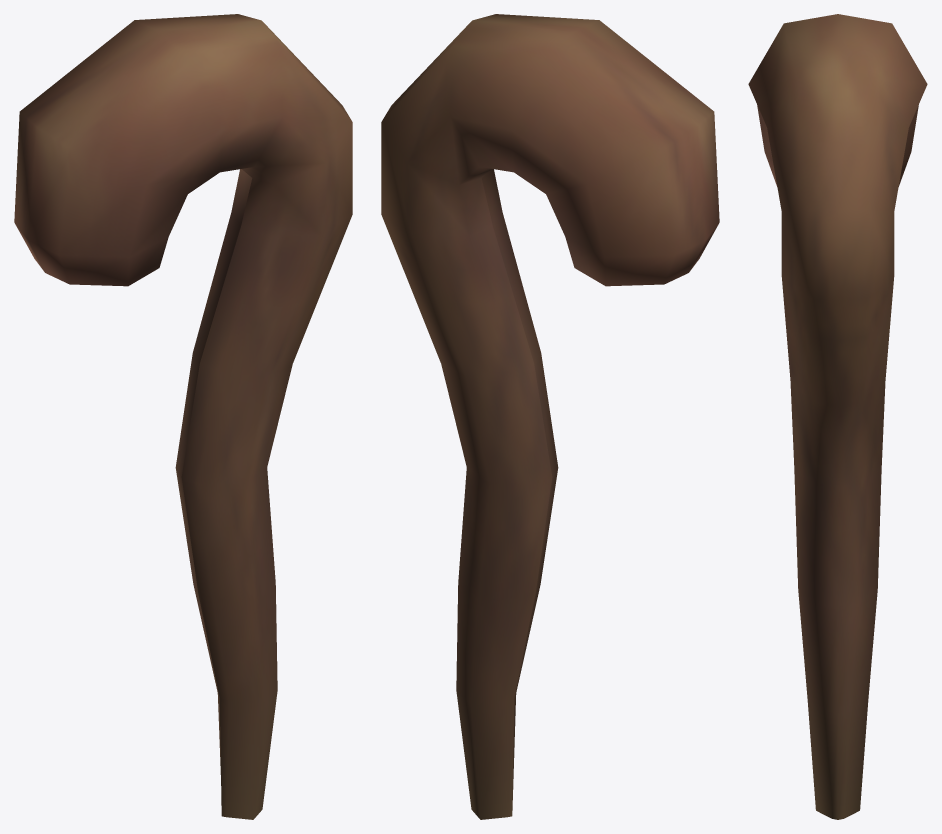
The model's file is Wood_Staff.fbx.
3 renders of one model, left to right at view 1: azimuth 30°, elevation 25°; view 2: azimuth 150°, elevation 25°; view 3: azimuth 270°, elevation 25°, orthographic. The views are drawn at different scales.
Visible parts, largest first — view 1: wood_staff; view 2: wood_staff; view 3: wood_staff.
Boxes of the visible parts, bbox=[...] form: wood_staff: bbox=[14, 14, 352, 819]; wood_staff: bbox=[381, 14, 719, 819]; wood_staff: bbox=[748, 14, 927, 819].
Bounding box in the file's own units: 24.2 × 58.94 × 12.54.
